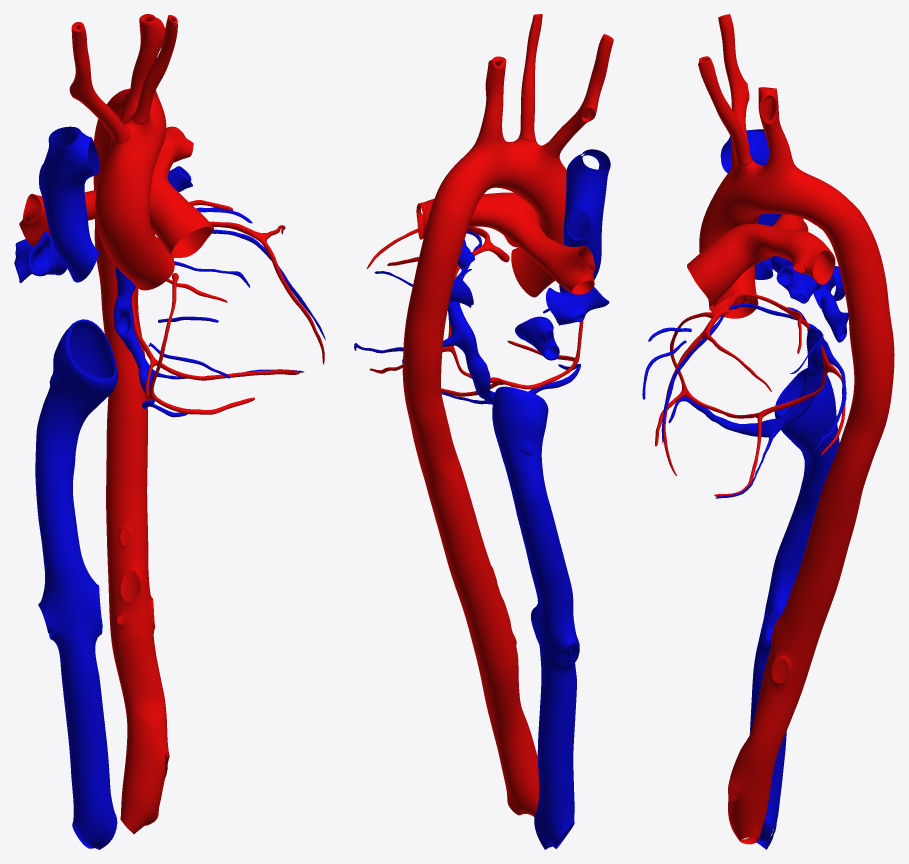
File: VH_F_Blood_Vasculature_Heart.fbx
3 views of the same model, side by side, from view 1: azimuth 30°, elevation 25°; view 2: azimuth 150°, elevation 25°; view 3: azimuth 270°, elevation 25° (orthographic). The views are drawn at different scales.
Visible parts, largest first — view 1: VH_F_descending_aorta_b, VH_F_inferior_vena_cava_b, VH_F_superior_vena_cava, VH_F_ascending_aorta, VH_F_inferior_vena_cava_a, VH_F_aortic_arch, VH_F_pulmonary_trunk, VH_F_descending_aorta_a, VH_F_brachiocephalic_artery_b, VH_F_coronary_sinus, VH_F_pulmonary_artery_R, VH_F_left_subclavian_artery_b (+7 smaller); view 2: VH_F_descending_aorta_b, VH_F_inferior_vena_cava_b, VH_F_descending_aorta_a, VH_F_aortic_arch, VH_F_inferior_vena_cava_a, VH_F_superior_vena_cava, VH_F_pulmonary_artery_R, VH_F_ascending_aorta, VH_F_coronary_sinus, VH_F_brachiocephalic_artery_b, VH_F_pulmonary_artery_L, VH_F_pulmonary_vein_R_sup (+6 smaller); view 3: VH_F_descending_aorta_b, VH_F_descending_aorta_a, VH_F_inferior_vena_cava_b, VH_F_aortic_arch, VH_F_pulmonary_artery_L, VH_F_inferior_vena_cava_a, VH_F_pulmonary_trunk, VH_F_ascending_aorta, VH_F_coronary_sinus, VH_F_brachiocephalic_artery_b, VH_F_superior_vena_cava, VH_F_left_common_carotid_artery_b (+10 smaller).
Part boxes in pixels (<box>): VH_F_descending_aorta_b: <box>106,376,169,833</box>; VH_F_inferior_vena_cava_b: <box>35,406,117,849</box>; VH_F_superior_vena_cava: <box>39,126,99,282</box>; VH_F_ascending_aorta: <box>95,175,174,290</box>; VH_F_inferior_vena_cava_a: <box>43,319,117,426</box>; VH_F_aortic_arch: <box>100,88,166,180</box>; VH_F_pulmonary_trunk: <box>149,170,213,257</box>; VH_F_descending_aorta_a: <box>93,119,145,376</box>; VH_F_brachiocephalic_artery_b: <box>69,22,114,123</box>; VH_F_coronary_sinus: <box>114,234,154,373</box>; VH_F_pulmonary_artery_R: <box>19,190,96,246</box>; VH_F_left_subclavian_artery_b: <box>134,14,165,75</box>; VH_F_descending_aorta_b: <box>420,452,538,816</box>; VH_F_inferior_vena_cava_b: <box>507,473,579,849</box>; VH_F_descending_aorta_a: <box>402,194,470,470</box>; VH_F_aortic_arch: <box>436,137,566,217</box>; VH_F_inferior_vena_cava_a: <box>492,386,548,475</box>; VH_F_superior_vena_cava: <box>559,149,610,292</box>; VH_F_pulmonary_artery_R: <box>510,211,594,294</box>; VH_F_ascending_aorta: <box>511,195,565,297</box>; VH_F_coronary_sinus: <box>447,301,494,404</box>; VH_F_brachiocephalic_artery_b: <box>560,34,613,140</box>; VH_F_pulmonary_artery_L: <box>416,192,510,239</box>; VH_F_pulmonary_vein_R_sup: <box>546,287,609,325</box>; VH_F_descending_aorta_b: <box>728,468,864,844</box>; VH_F_descending_aorta_a: <box>820,205,894,487</box>; VH_F_inferior_vena_cava_b: <box>749,440,839,849</box>; VH_F_aortic_arch: <box>715,160,853,227</box>; VH_F_pulmonary_artery_L: <box>745,224,835,284</box>; VH_F_inferior_vena_cava_a: <box>774,368,839,461</box>; VH_F_pulmonary_trunk: <box>687,223,774,305</box>; VH_F_ascending_aorta: <box>699,191,759,318</box>; VH_F_coronary_sinus: <box>766,323,832,437</box>; VH_F_brachiocephalic_artery_b: <box>718,14,749,131</box>; VH_F_superior_vena_cava: <box>720,129,781,279</box>; VH_F_left_common_carotid_artery_b: <box>698,56,746,146</box>.
Size of the model in its own units: 14.08 by 45.19 by 12.65.
